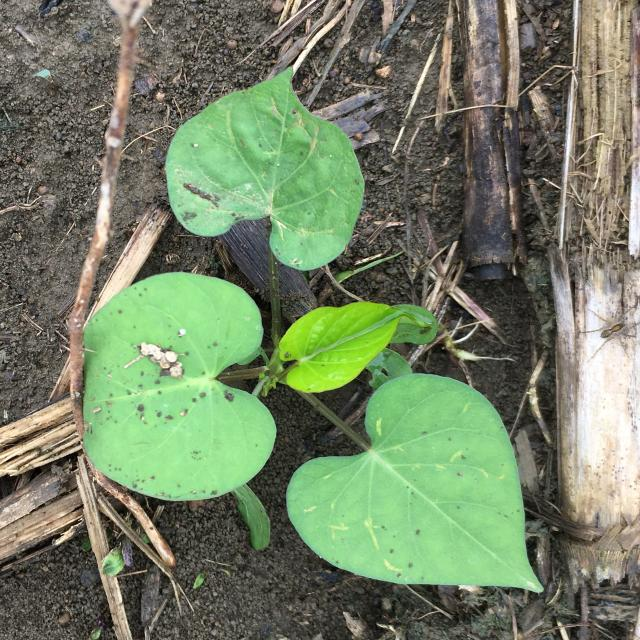MorningGlory: (84, 65, 545, 593)
